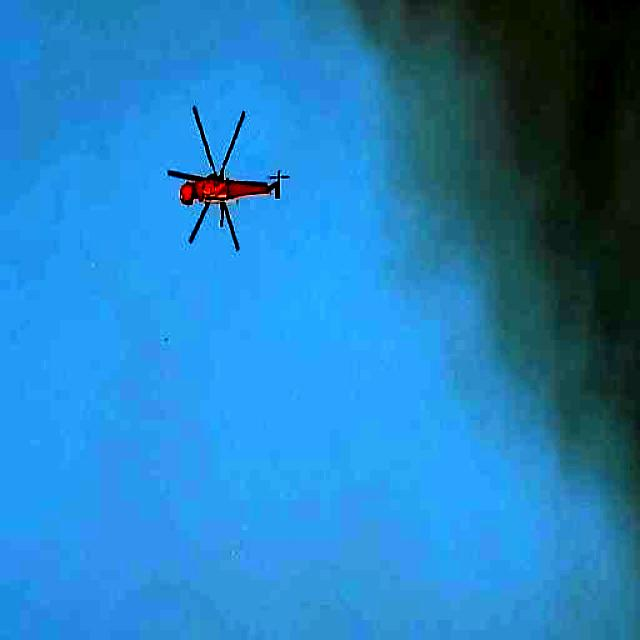drone: (158, 84, 288, 255)
